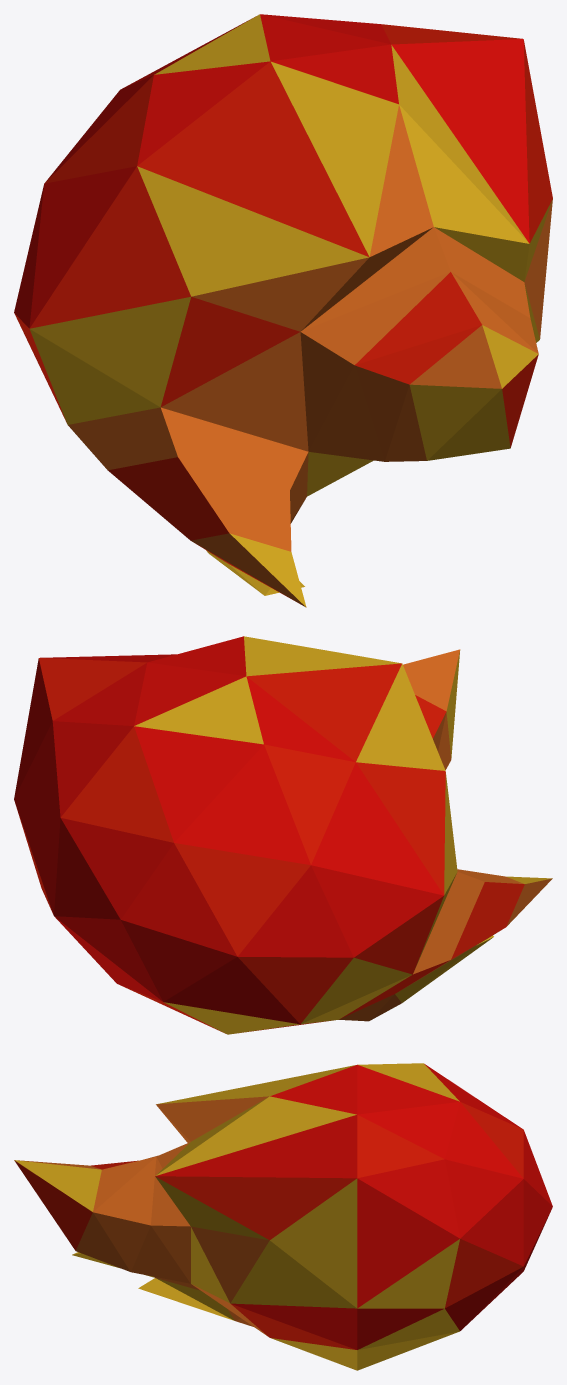
The model's file is fire.obj.
The picture shows the model from 3 angles, top to bottom: view 1: azimuth 30°, elevation 25°; view 2: azimuth 150°, elevation 25°; view 3: azimuth 270°, elevation 25°; orthographic projection. The views are drawn at different scales.
Visible parts, largest first — view 1: Fire.001; view 2: Fire.001; view 3: Fire.001.
Boxes of the visible parts, x1,y1,x2,y2 form: Fire.001: (14, 14, 552, 607); Fire.001: (14, 636, 552, 1034); Fire.001: (14, 1063, 552, 1370).
Bounding box in the file's own units: 0.6199 × 0.5045 × 0.8395.
